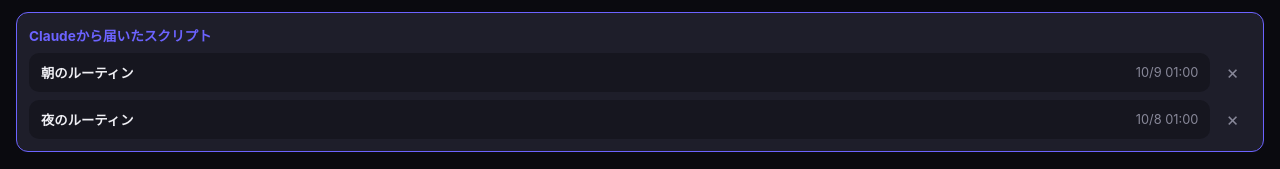
Test case: ClaudeInbox › throws an item away with × after asking, without opening it
Click the button named "「夜のルーティン」を消す" at (1233, 120), box [1214,100,1251,139]
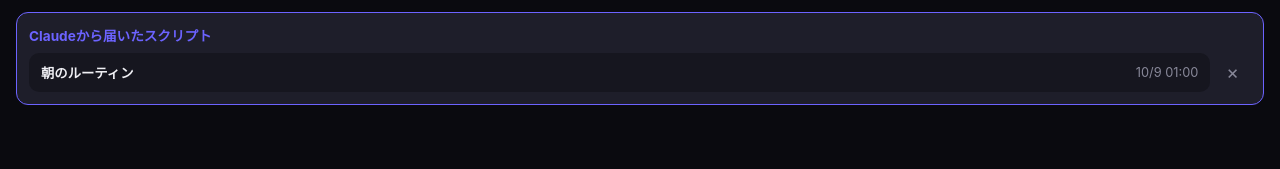
Check: the text "朝のルーティン" is shown, box [41,63,134,82]
Check: the button "夜のルーティン" is gone
